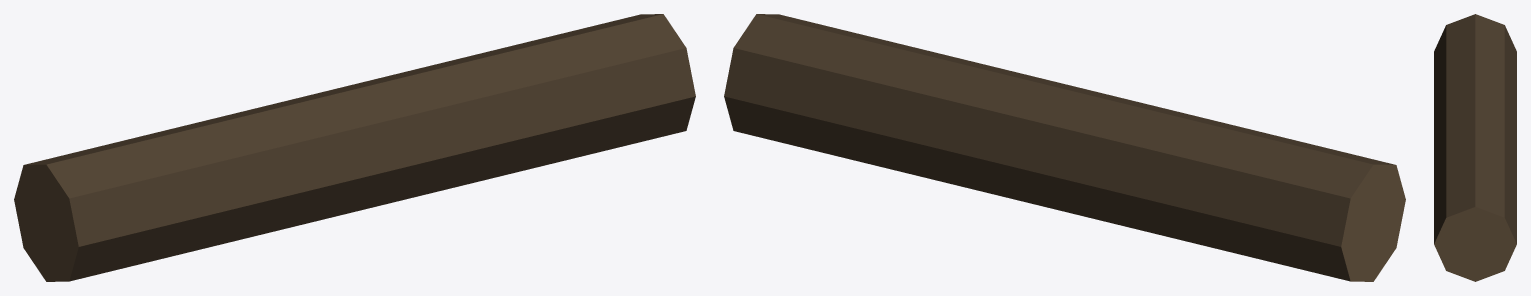
The model's file is Single_Log.fbx.
3 renders of one model, left to right at view 1: azimuth 30°, elevation 25°; view 2: azimuth 150°, elevation 25°; view 3: azimuth 270°, elevation 25°, orthographic. The views are drawn at different scales.
Parts seen in each view (by area): view 1: Cabin_Corner_Wall1; view 2: Cabin_Corner_Wall1; view 3: Cabin_Corner_Wall1.
Part boxes in pixels (bbox=[...]): Cabin_Corner_Wall1: bbox=[14, 14, 695, 281]; Cabin_Corner_Wall1: bbox=[724, 14, 1405, 281]; Cabin_Corner_Wall1: bbox=[1434, 14, 1516, 281].
Bounding box in the file's own units: 110 × 20 × 20.
